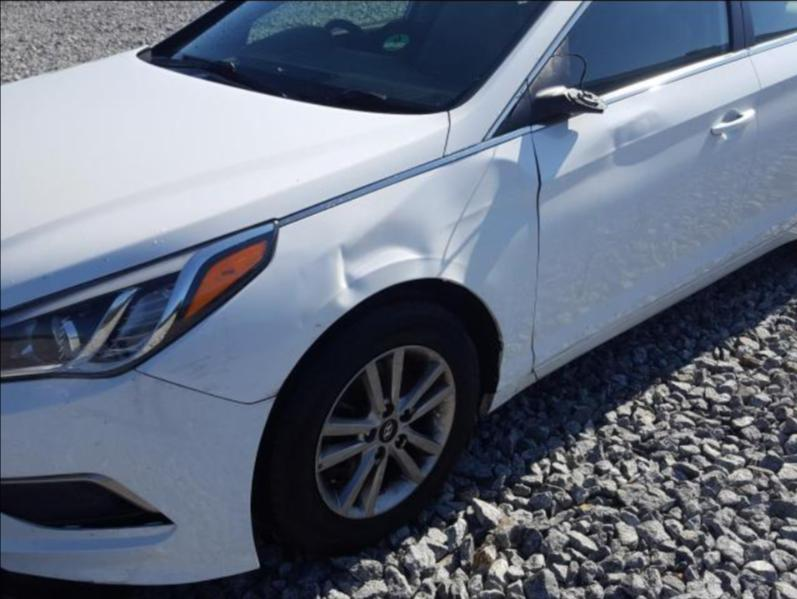Dent: (394, 155, 538, 293), (304, 212, 431, 318), (549, 109, 694, 194), (292, 314, 308, 333)
Missing part: (534, 47, 661, 120)
Scratch: (155, 354, 227, 391), (190, 385, 226, 399), (130, 363, 149, 380), (508, 388, 517, 397), (160, 384, 173, 390), (315, 321, 322, 328)
